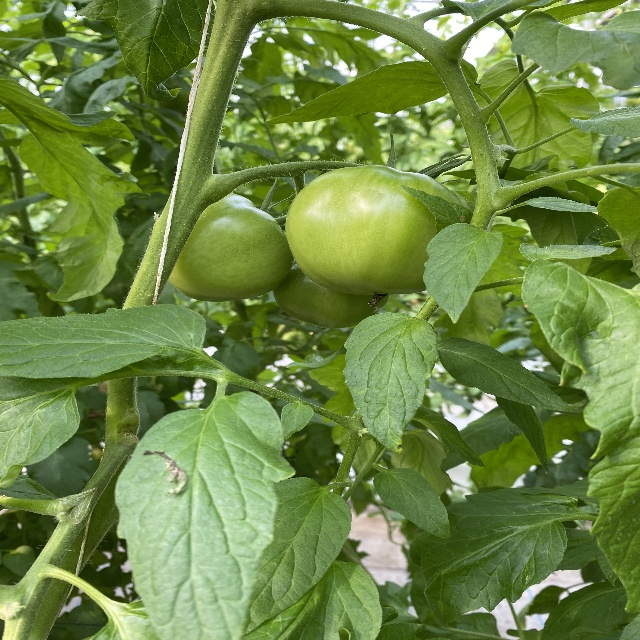b_green: (284, 165, 478, 296), (169, 193, 295, 302), (272, 264, 392, 329)
